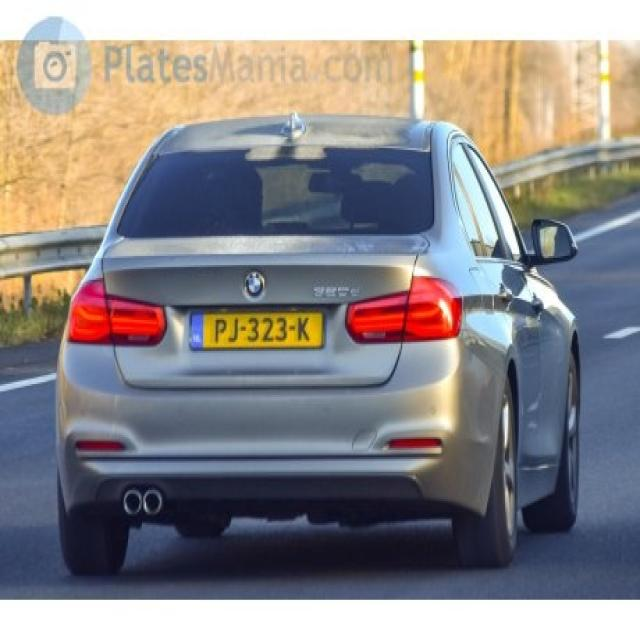number_plate: (182, 307, 326, 351)
